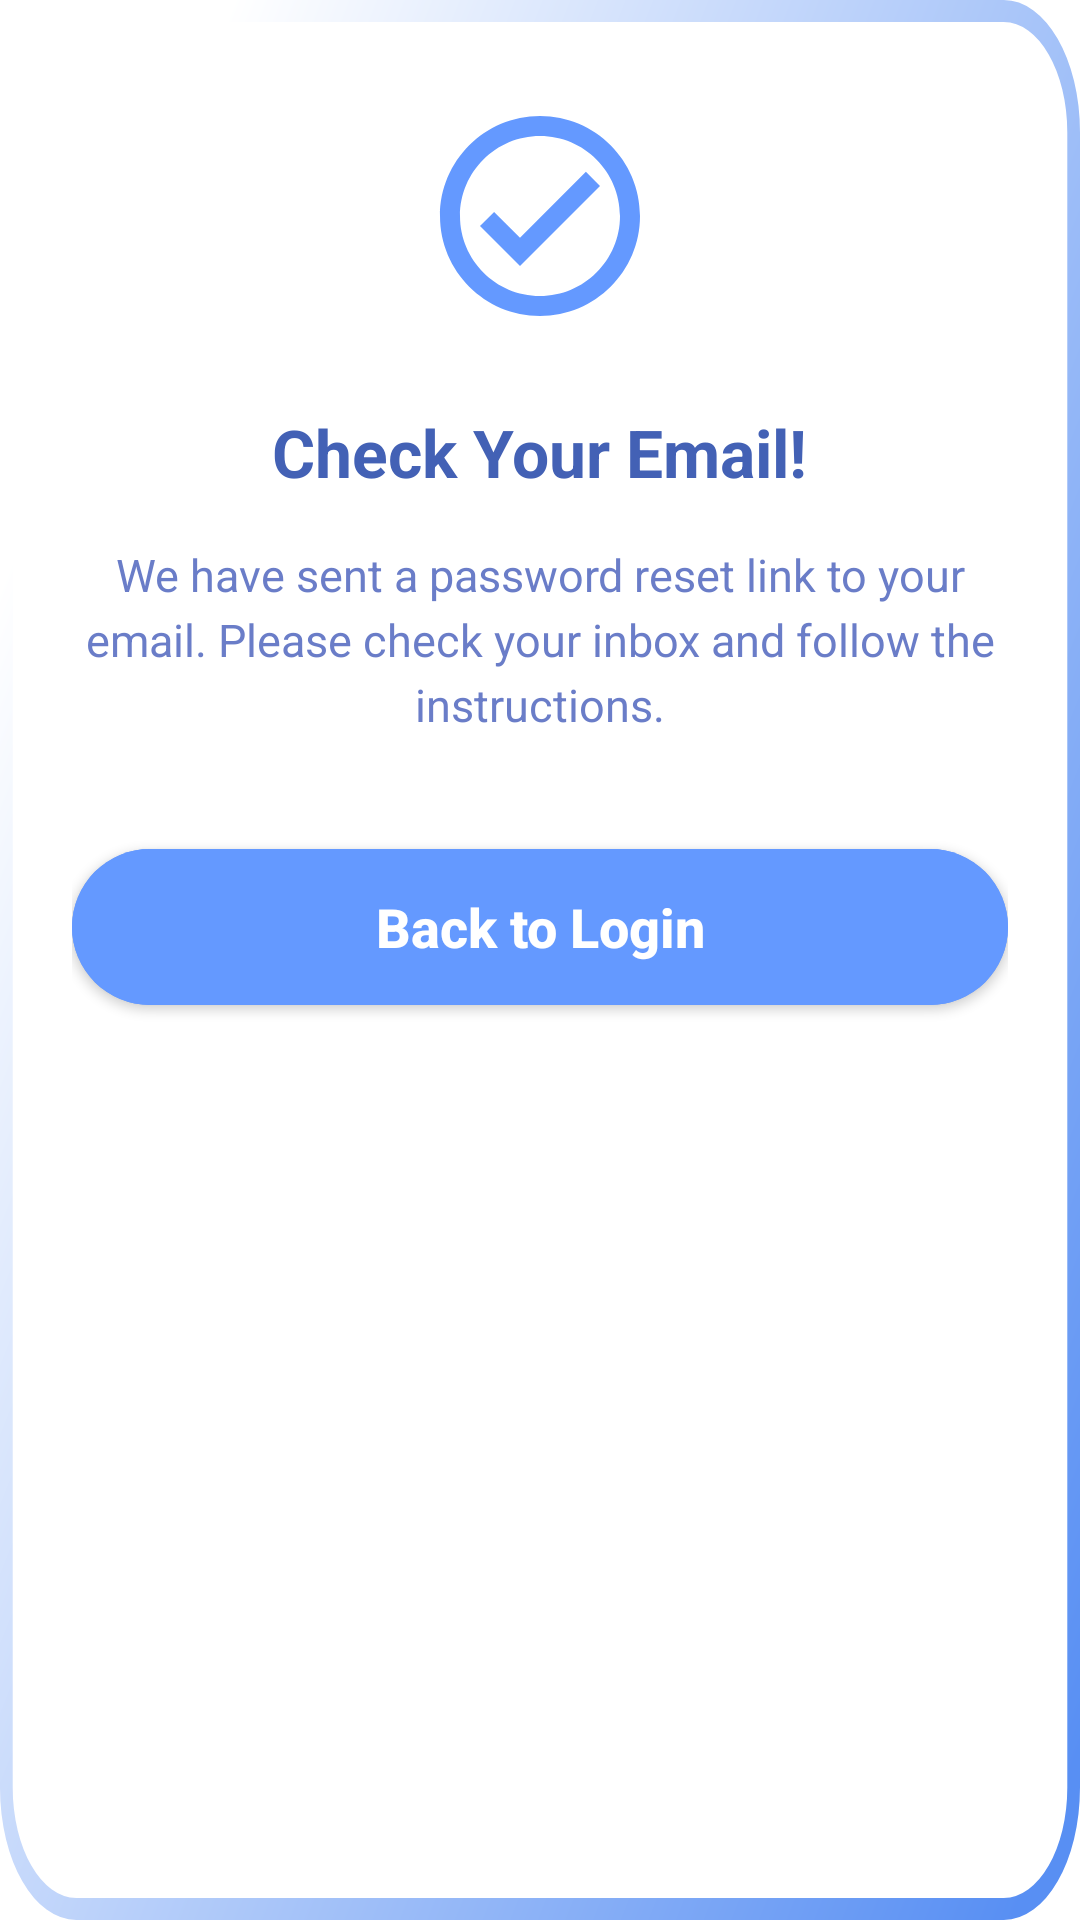

Icons on this 1080w x 1920h Android screen, each with its box as (x1, y1, x2, y2):
check circle: (440, 116, 640, 316)
